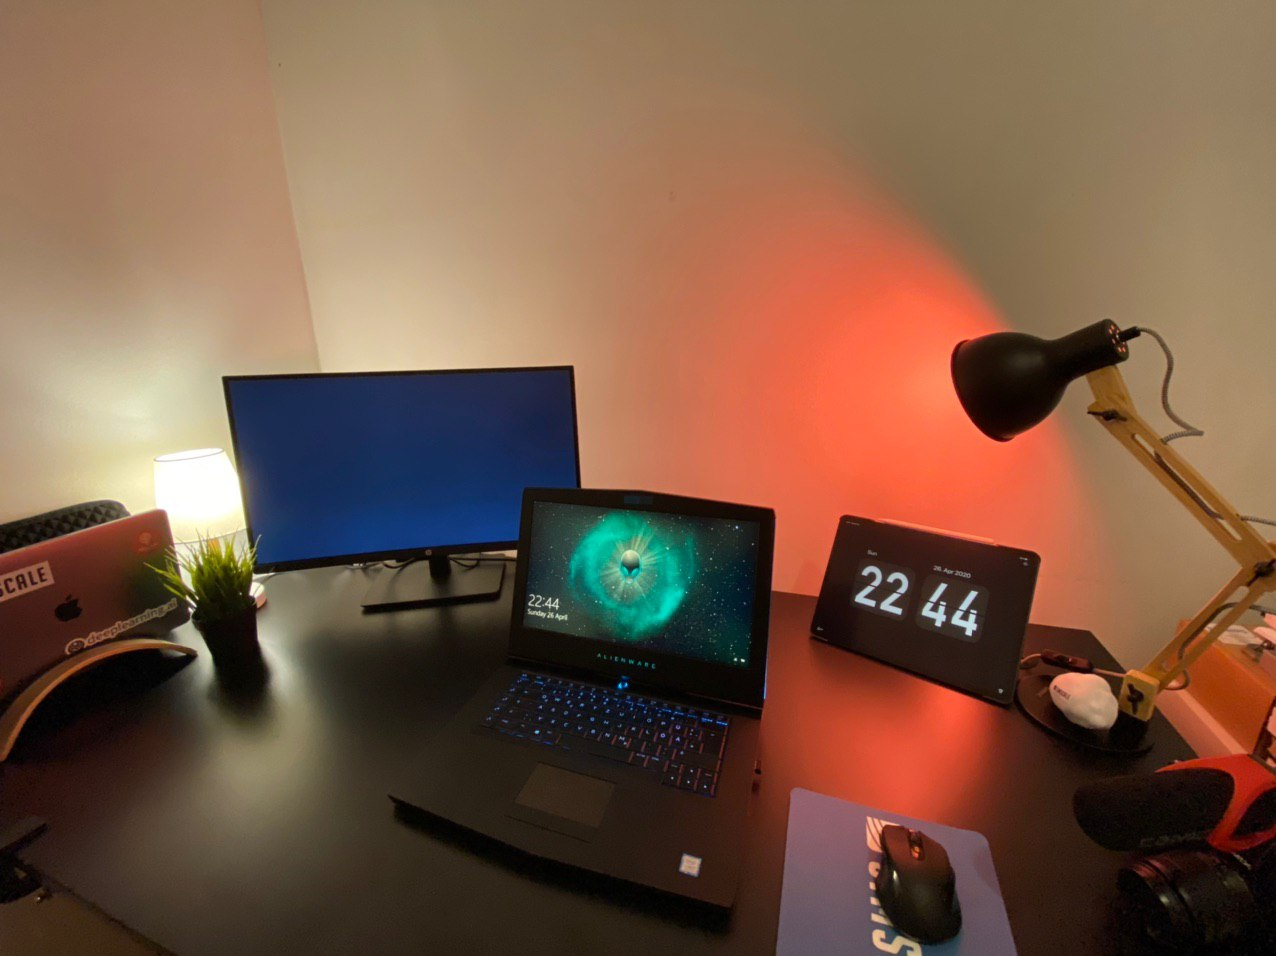Decoration (Plant): (152, 518, 278, 692)
Lamp (Desk): (938, 301, 1276, 760), (140, 437, 295, 617)
Laptop (OSX): (1, 498, 202, 776)
Laptop (Windows): (393, 479, 779, 939)
Laptop Stand: (1, 635, 202, 774)
Monitor (Landscape): (216, 362, 592, 622)
Monitor (Laptop): (511, 465, 779, 718)
Mouse (Gaming): (863, 813, 963, 951)
Mousepad (Generic): (759, 777, 1033, 955)
Tablet (Generic): (808, 499, 1042, 713)
